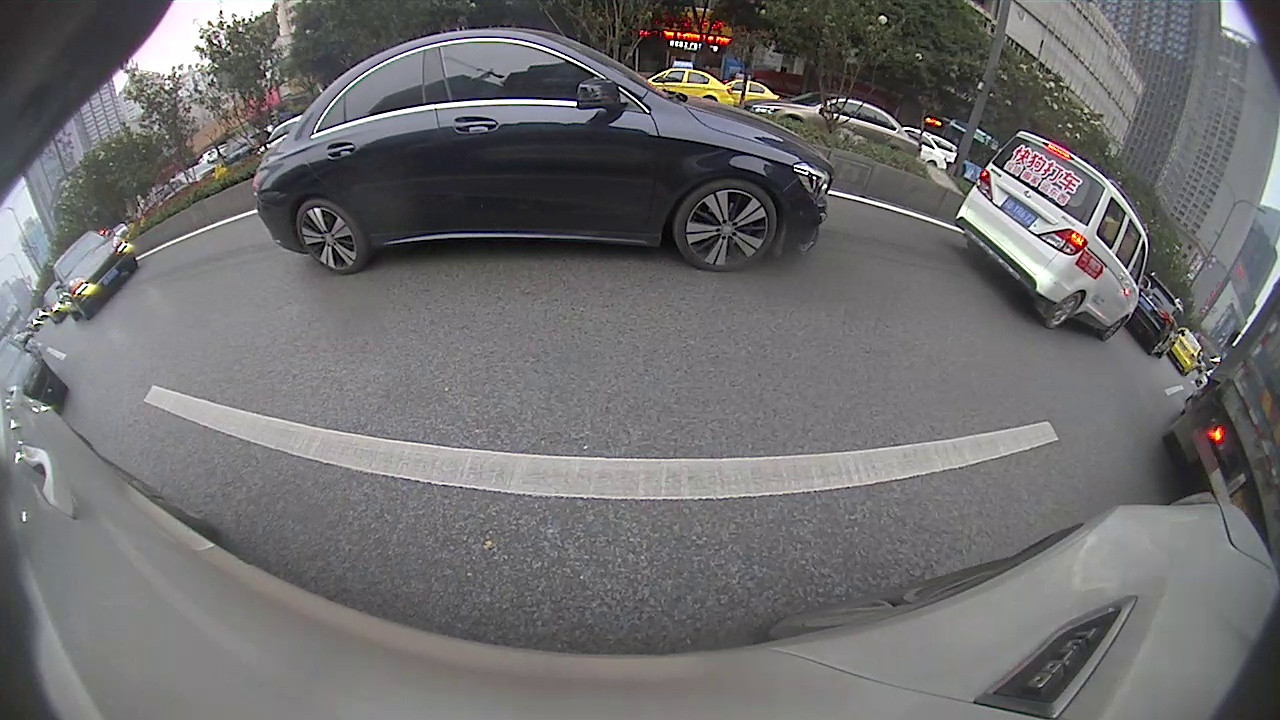car: (251, 28, 835, 274), (952, 127, 1148, 340), (50, 232, 140, 323), (1123, 274, 1179, 356), (1168, 327, 1205, 376)
front: (680, 181, 774, 270), (1101, 316, 1129, 341)
rear: (295, 202, 365, 272), (1044, 289, 1087, 331)
